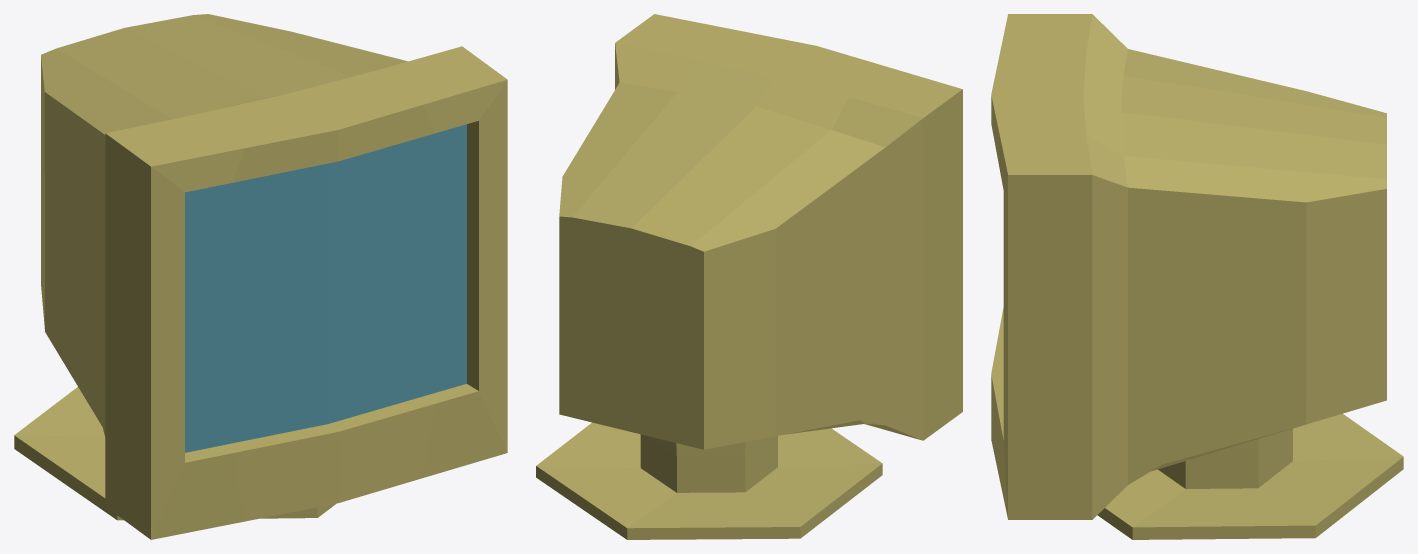
Rendered from SM_Computer.fbx.
3 renders of one model, left to right at view 1: azimuth 30°, elevation 25°; view 2: azimuth 150°, elevation 25°; view 3: azimuth 270°, elevation 25°, orthographic. The views are drawn at different scales.
Parts seen in each view (by area): view 1: SM_Computer; view 2: SM_Computer; view 3: SM_Computer.
Part boxes in pixels (<box>): SM_Computer: <box>14,14,507,539</box>; SM_Computer: <box>536,14,962,539</box>; SM_Computer: <box>991,14,1403,539</box>.
Bounding box in the file's own units: 40.96 × 44.69 × 44.37.
